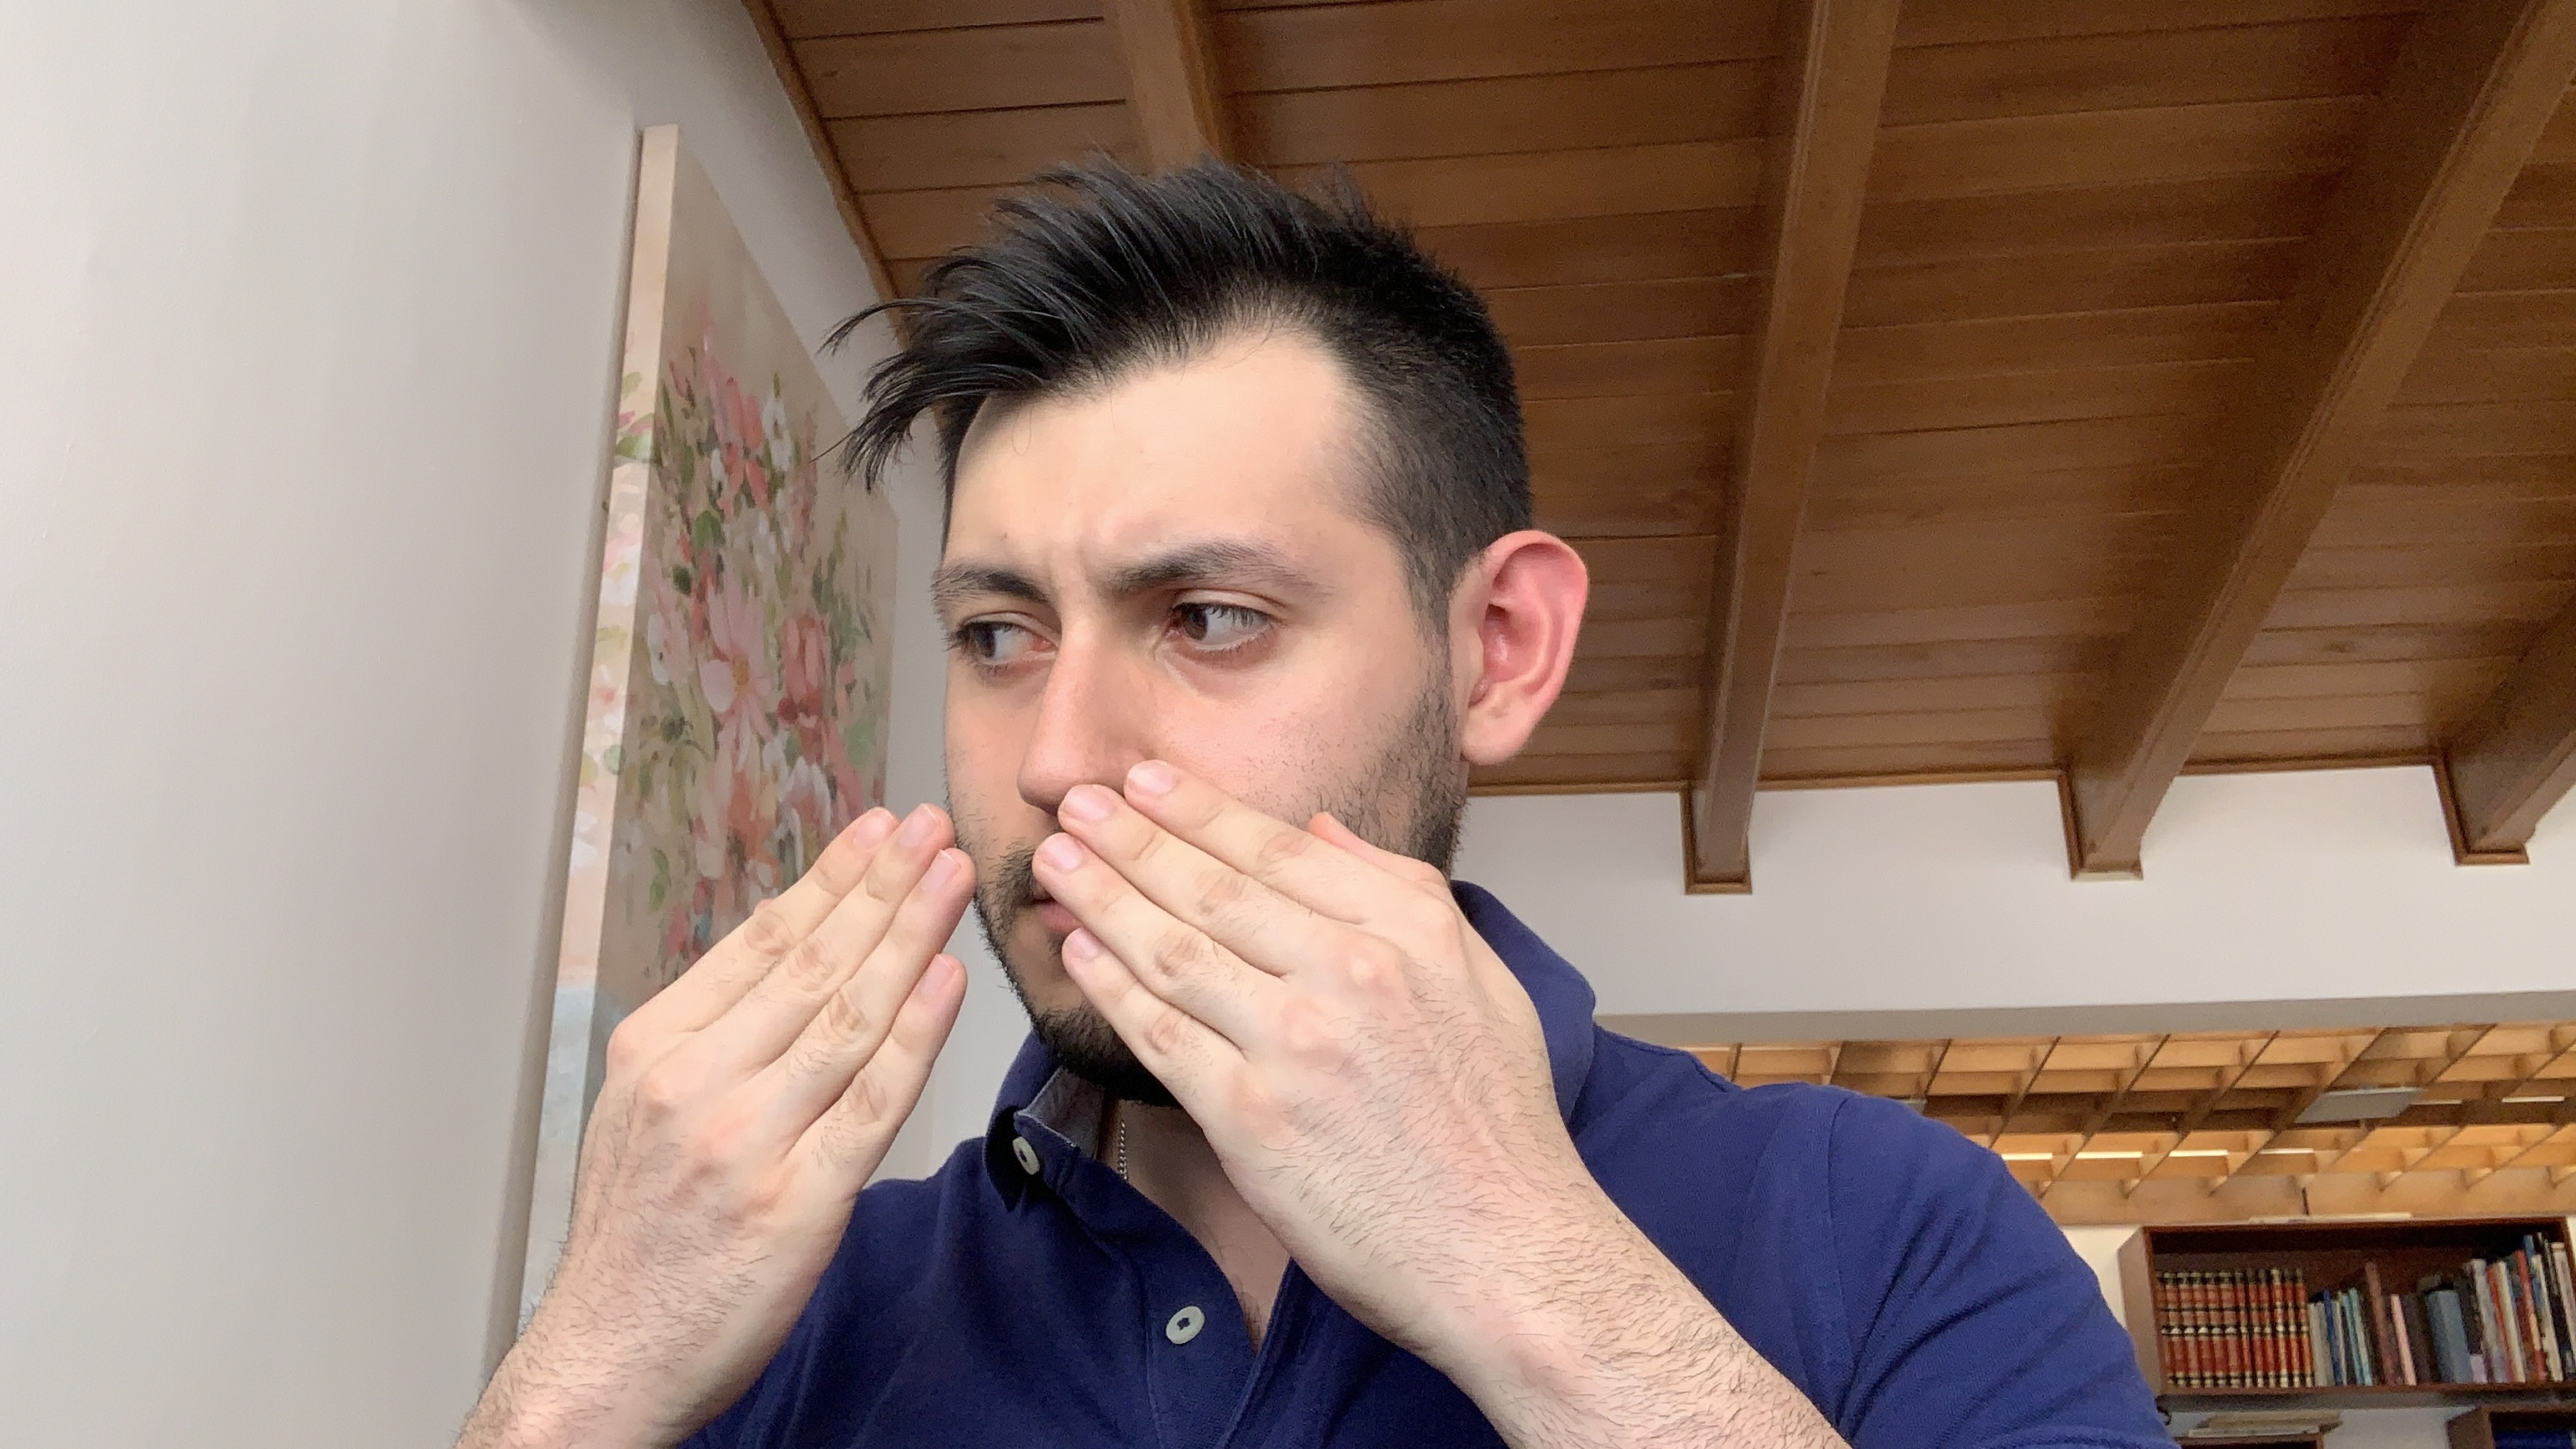Thank You: (547, 757, 1582, 1376)
